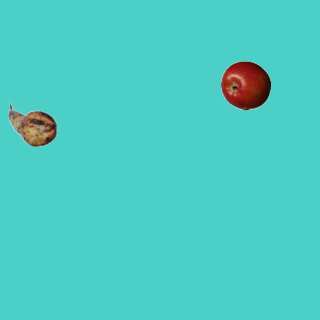Apple Braeburn: (220, 60, 270, 110)
Pear Abate: (7, 99, 57, 149)
